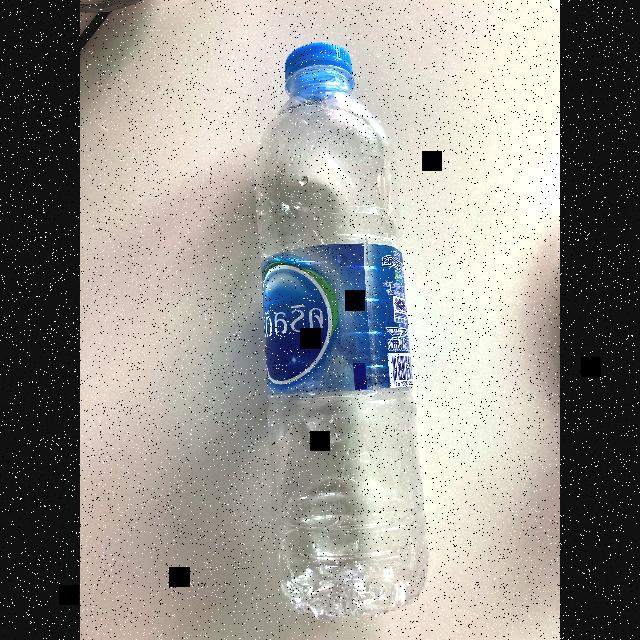plastic_bottle: (249, 36, 437, 622)
plastic_bottle_cap: (284, 39, 356, 103)
